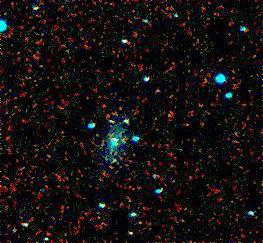star: (96, 150, 126, 180)
